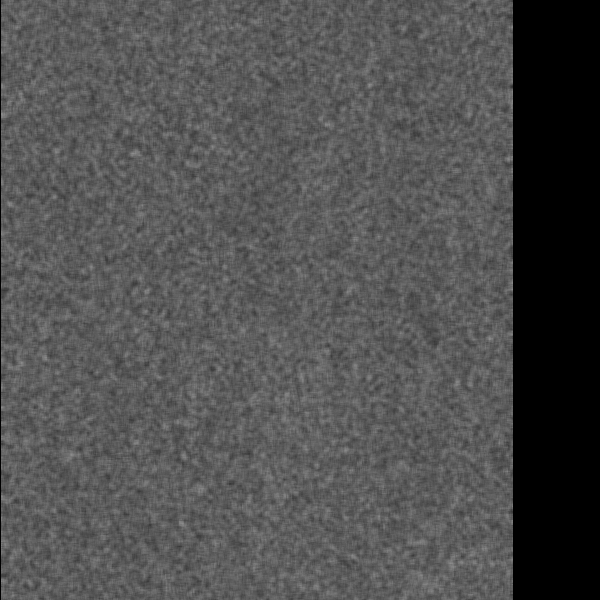spark: (319, 538, 367, 596), (422, 182, 474, 223)
